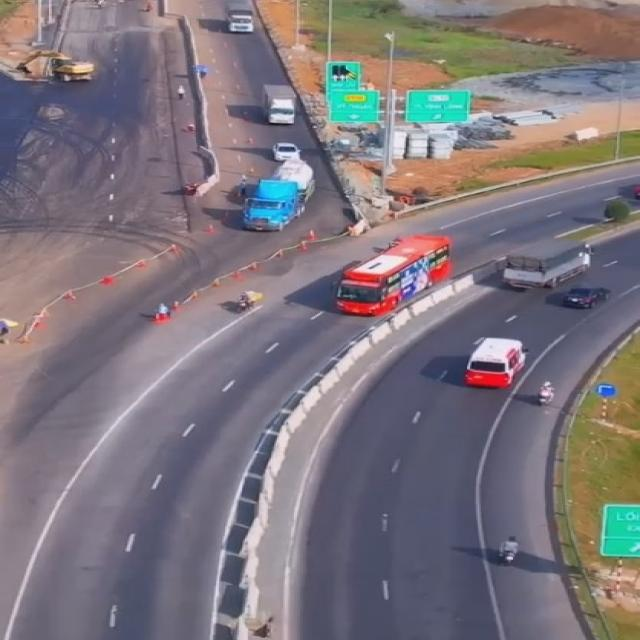bus: (329, 236, 456, 315), (464, 336, 525, 391)
car: (560, 285, 612, 310), (270, 139, 306, 158)
motorbike: (496, 534, 524, 570), (232, 286, 260, 313), (534, 380, 553, 404)
truck: (239, 156, 320, 232), (501, 234, 589, 292), (260, 82, 304, 124), (223, 4, 250, 33)
